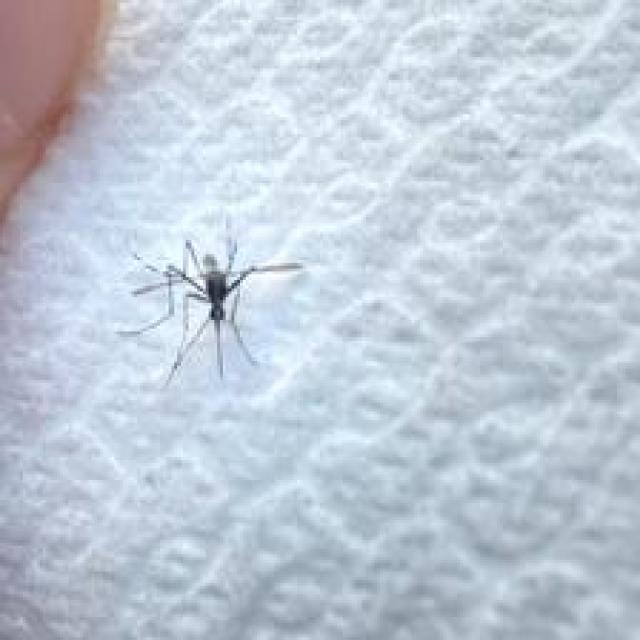Aedes albopictus: (114, 213, 306, 387)
